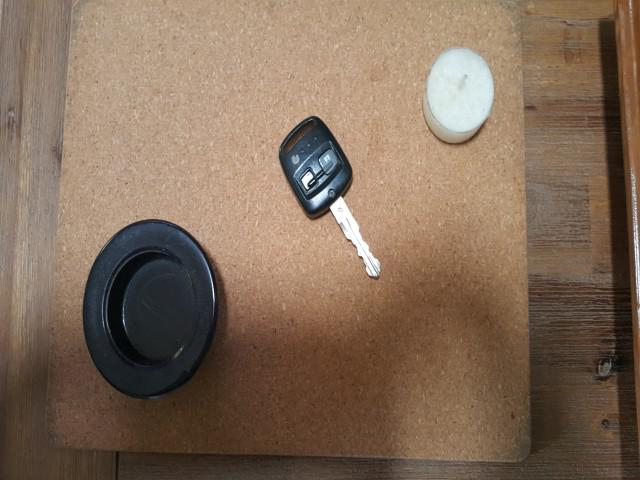key: (278, 117, 384, 384)
